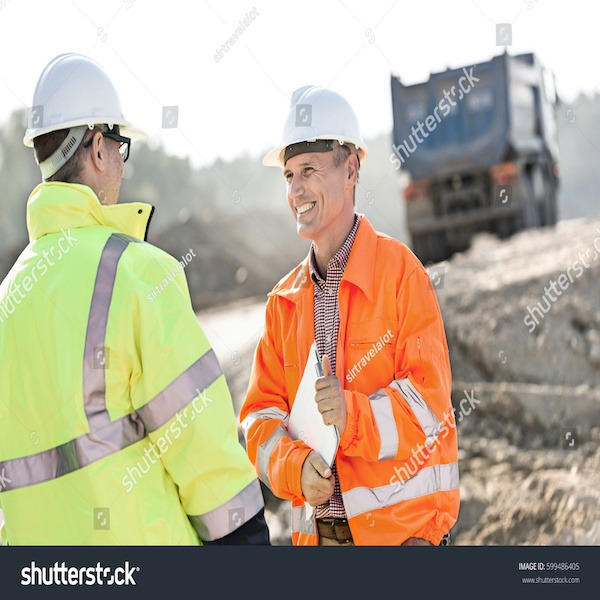helmet: (21, 55, 148, 144), (264, 86, 364, 154)
vest: (253, 236, 458, 542), (6, 207, 193, 540)
